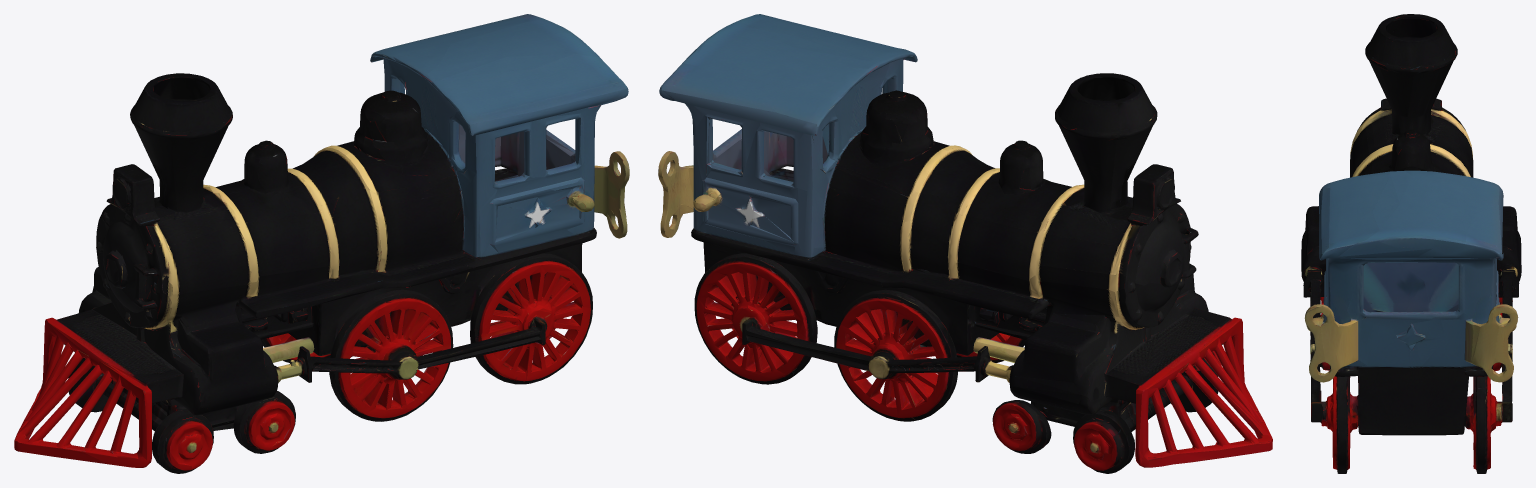
The picture shows the model from 3 angles, left to right: view 1: azimuth 30°, elevation 25°; view 2: azimuth 150°, elevation 25°; view 3: azimuth 270°, elevation 25°; orthographic projection. The views are drawn at different scales.
Bounding box in the file's own units: 1.9 × 1.11 × 0.7174.
1 material, 1 textured.
